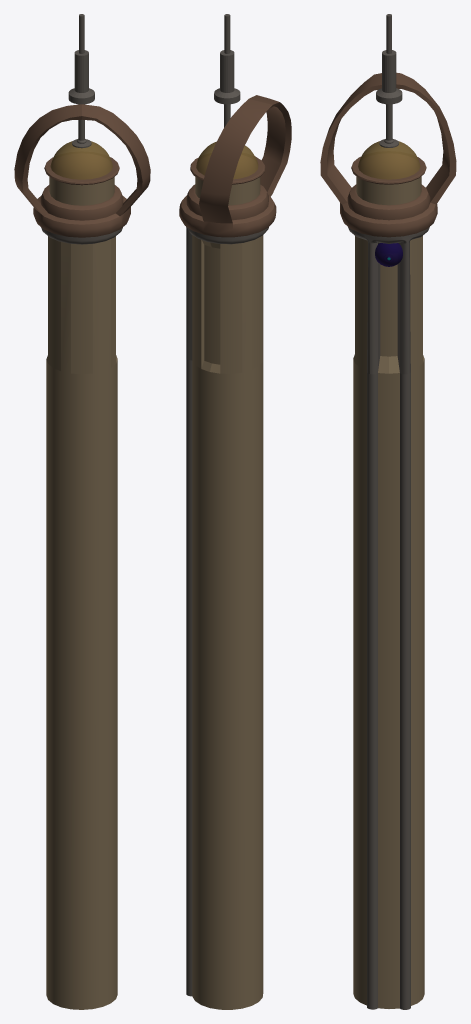
Rendered from ArchBuilding.fbx.
3 views of the same model, side by side, from view 1: azimuth 90°, elevation 25°; view 2: azimuth 150°, elevation 25°; view 3: azimuth 270°, elevation 25° (orthographic).
Visible parts, largest first — view 1: polySurface36; view 2: polySurface36; view 3: polySurface36.
Boxes of the visible parts, x1=… form: polySurface36: x1=14, y1=14, x2=150, y2=1009; polySurface36: x1=179, y1=14, x2=291, y2=1009; polySurface36: x1=320, y1=14, x2=456, y2=1009.
Bounding box in the file's own units: 18.37 × 196 × 24.72.
